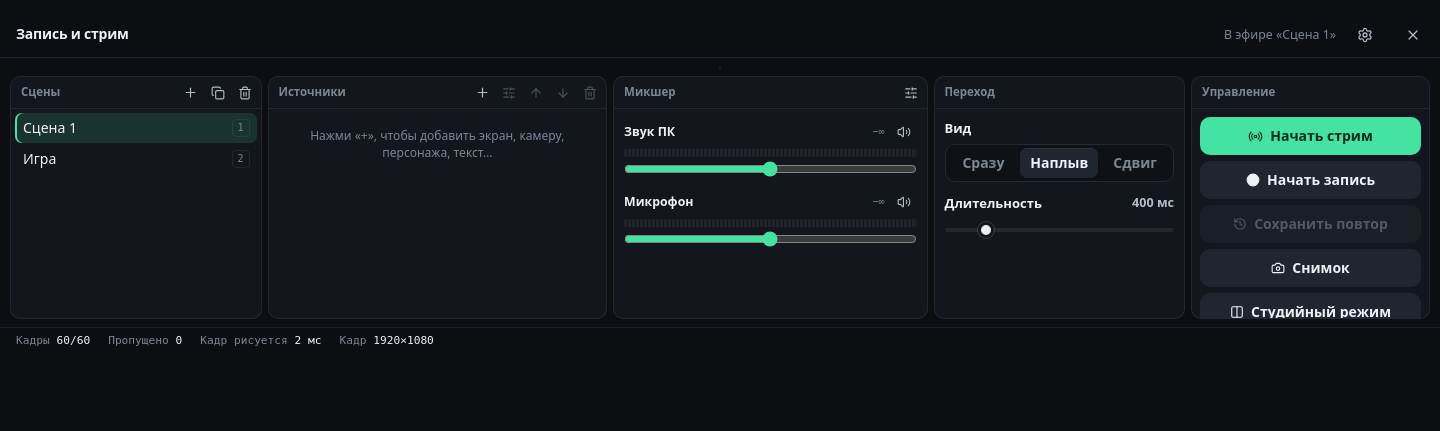
the studio page › adds sources from the «+» menu and lists them top first
The image size is (1440, 431).
What coordinates should you click on to do the following:
click the button named "Добавить источник"
I would click on:
 (482, 92)
Its box is x1=469 y1=80 x2=495 y2=106.
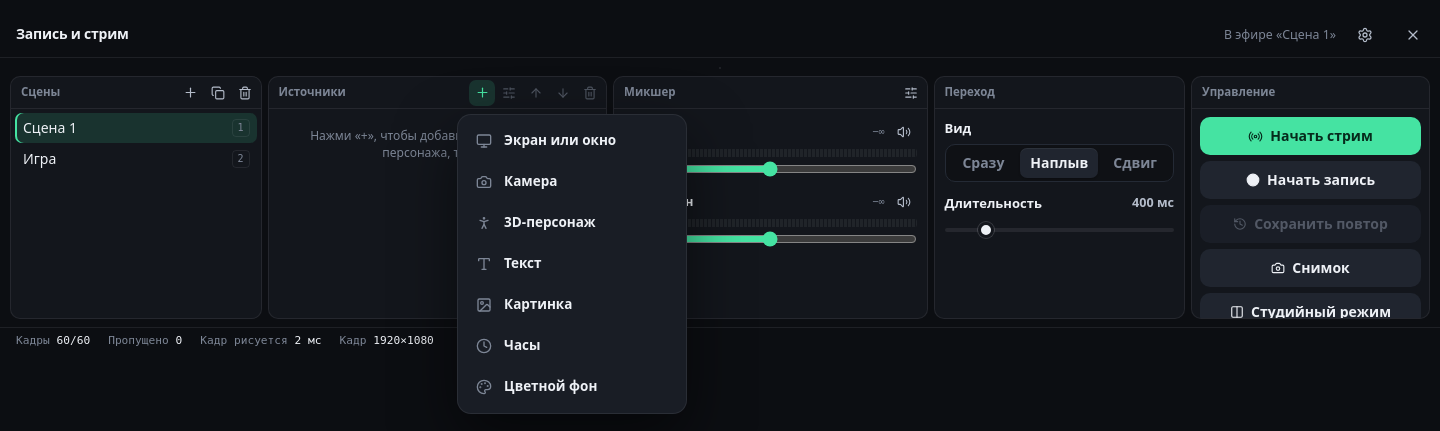
What coordinates should you click on to do the following:
click the menu item "Экран или окно"
I would click on:
 (572, 140)
Its box is x1=464 y1=120 x2=680 y2=160.
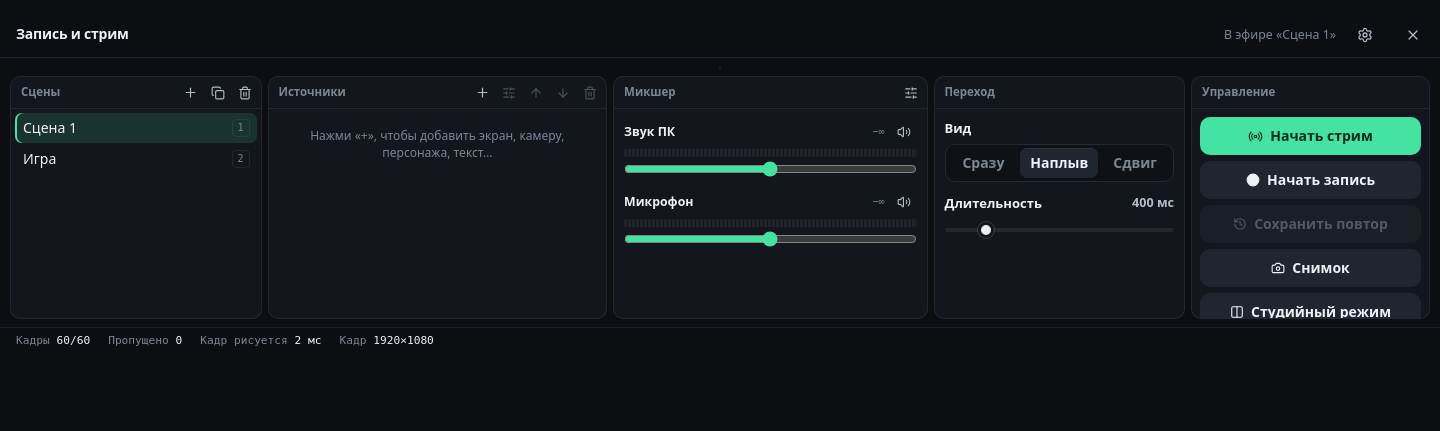
What coordinates should you click on to do the following:
click the button named "Добавить источник"
I would click on:
 (482, 92)
Its box is x1=469 y1=80 x2=495 y2=106.
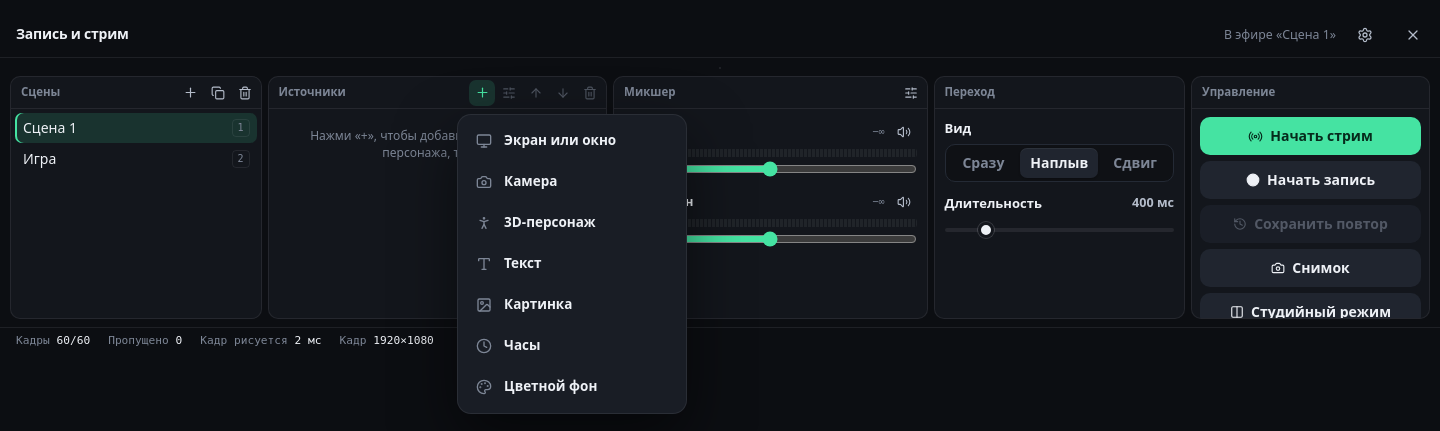
What coordinates should you click on to do the following:
click the menu item "3D-персонаж"
I would click on:
 (572, 222)
Its box is x1=464 y1=202 x2=680 y2=242.
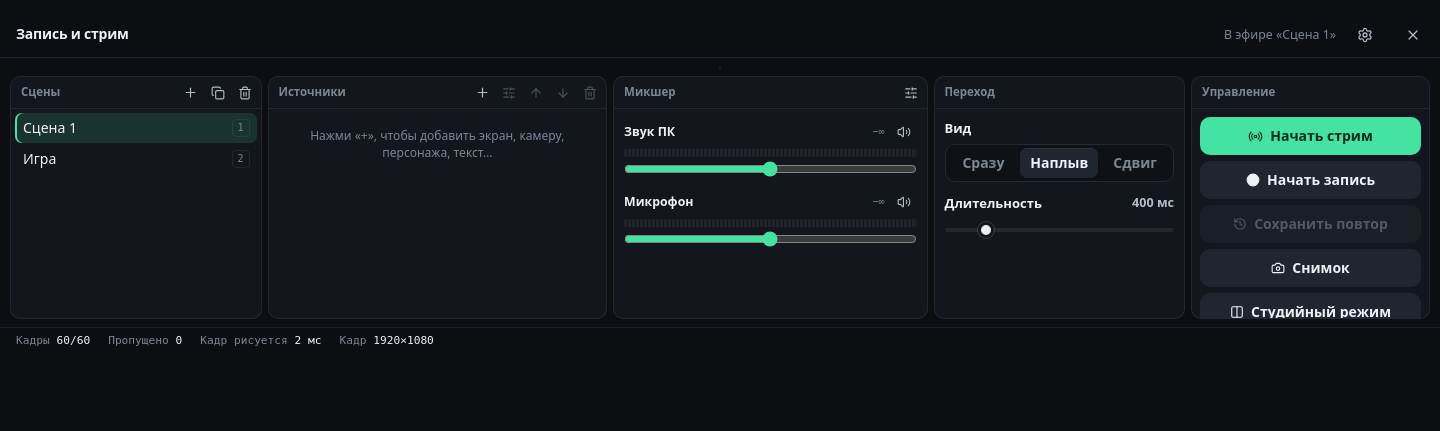
What coordinates should you click on to do the following:
click the button named "Добавить источник"
I would click on:
 (482, 92)
Its box is x1=469 y1=80 x2=495 y2=106.
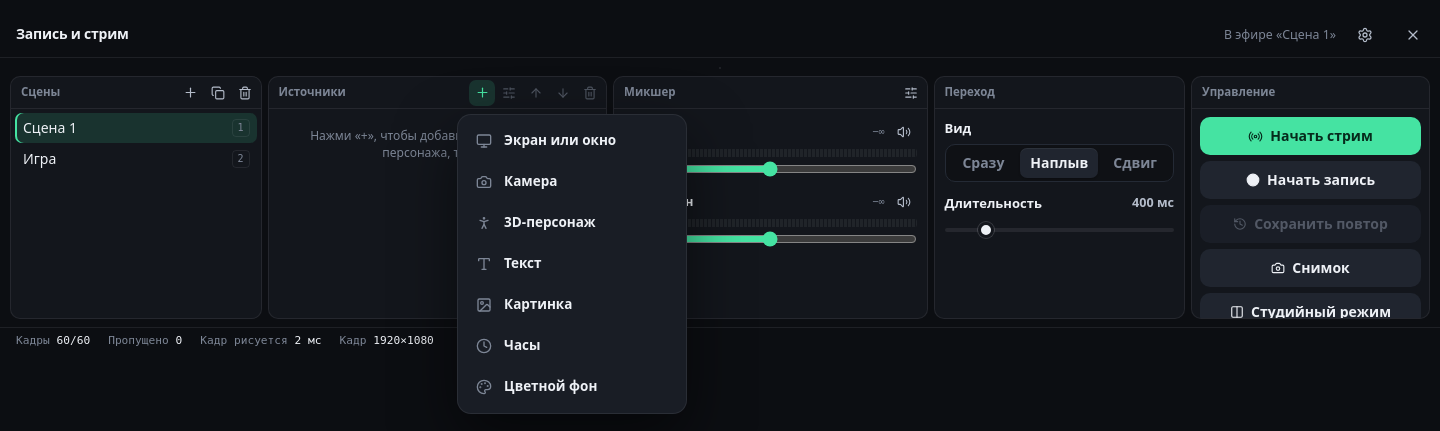
What coordinates should you click on to do the following:
click the menu item "Часы"
I would click on:
 (572, 346)
Its box is x1=464 y1=326 x2=680 y2=366.
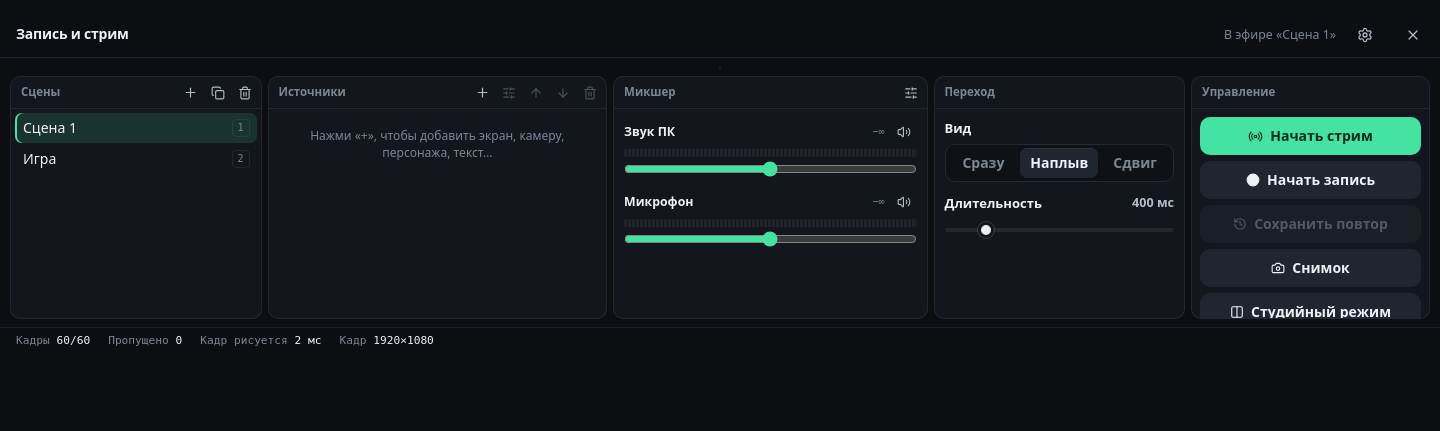
Check: the menu is gone
